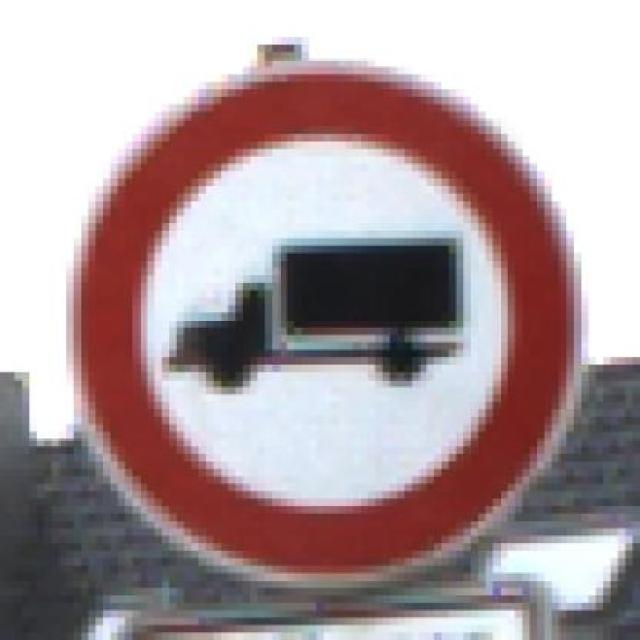Truck traffic is prohibited: (38, 46, 598, 605)
